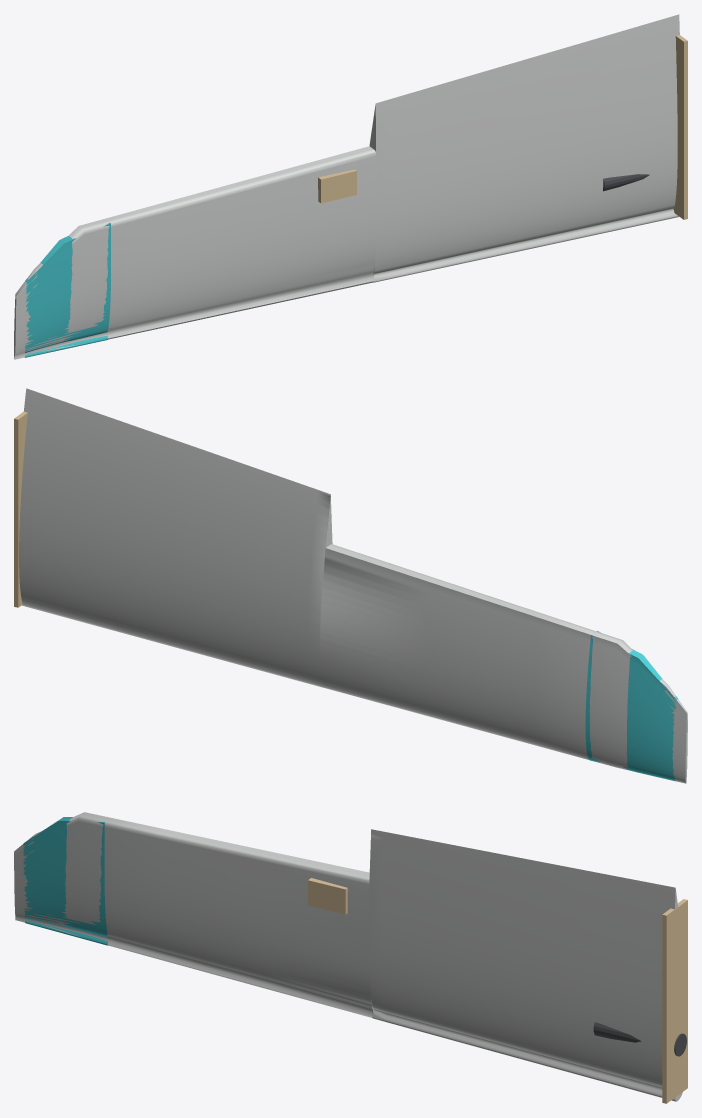
File: ala_der.glb
3 renders of one model, top to bottom at view 1: azimuth 30°, elevation 25°; view 2: azimuth 150°, elevation 25°; view 3: azimuth 330°, elevation 25°, orthographic. The views are drawn at different scales.
Parts seen in each view (by area): view 1: Semiala; view 2: Semiala; view 3: Semiala.
Boxes of the visible parts, left/top/right/bottom form: Semiala: left=14, top=14, right=687, bottom=359; Semiala: left=14, top=388, right=687, bottom=783; Semiala: left=14, top=812, right=687, bottom=1103.
Bounding box in the file's own units: 0.551 × 0.1659 × 0.0505.
